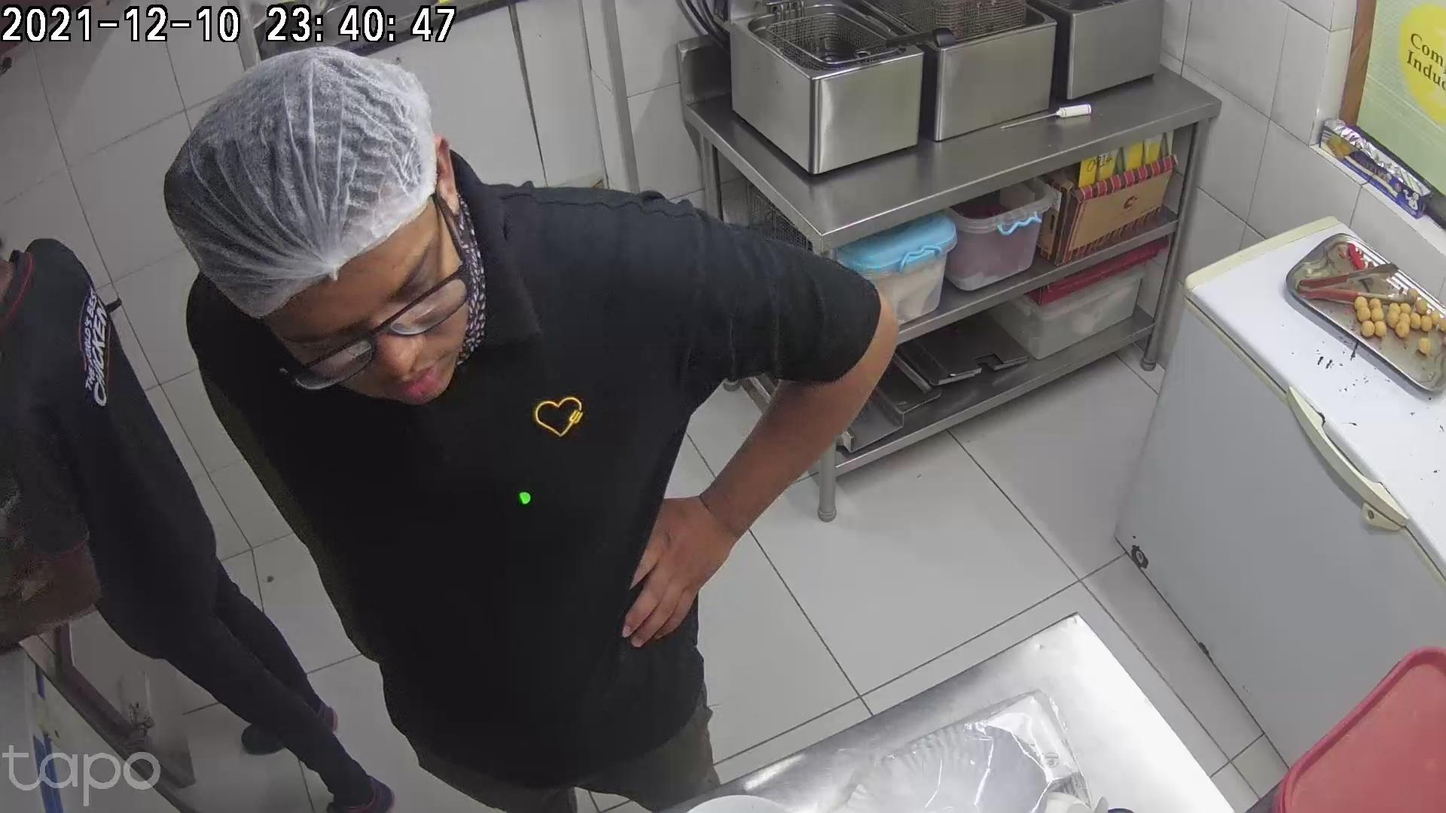no_gloves: (621, 482, 757, 644)
